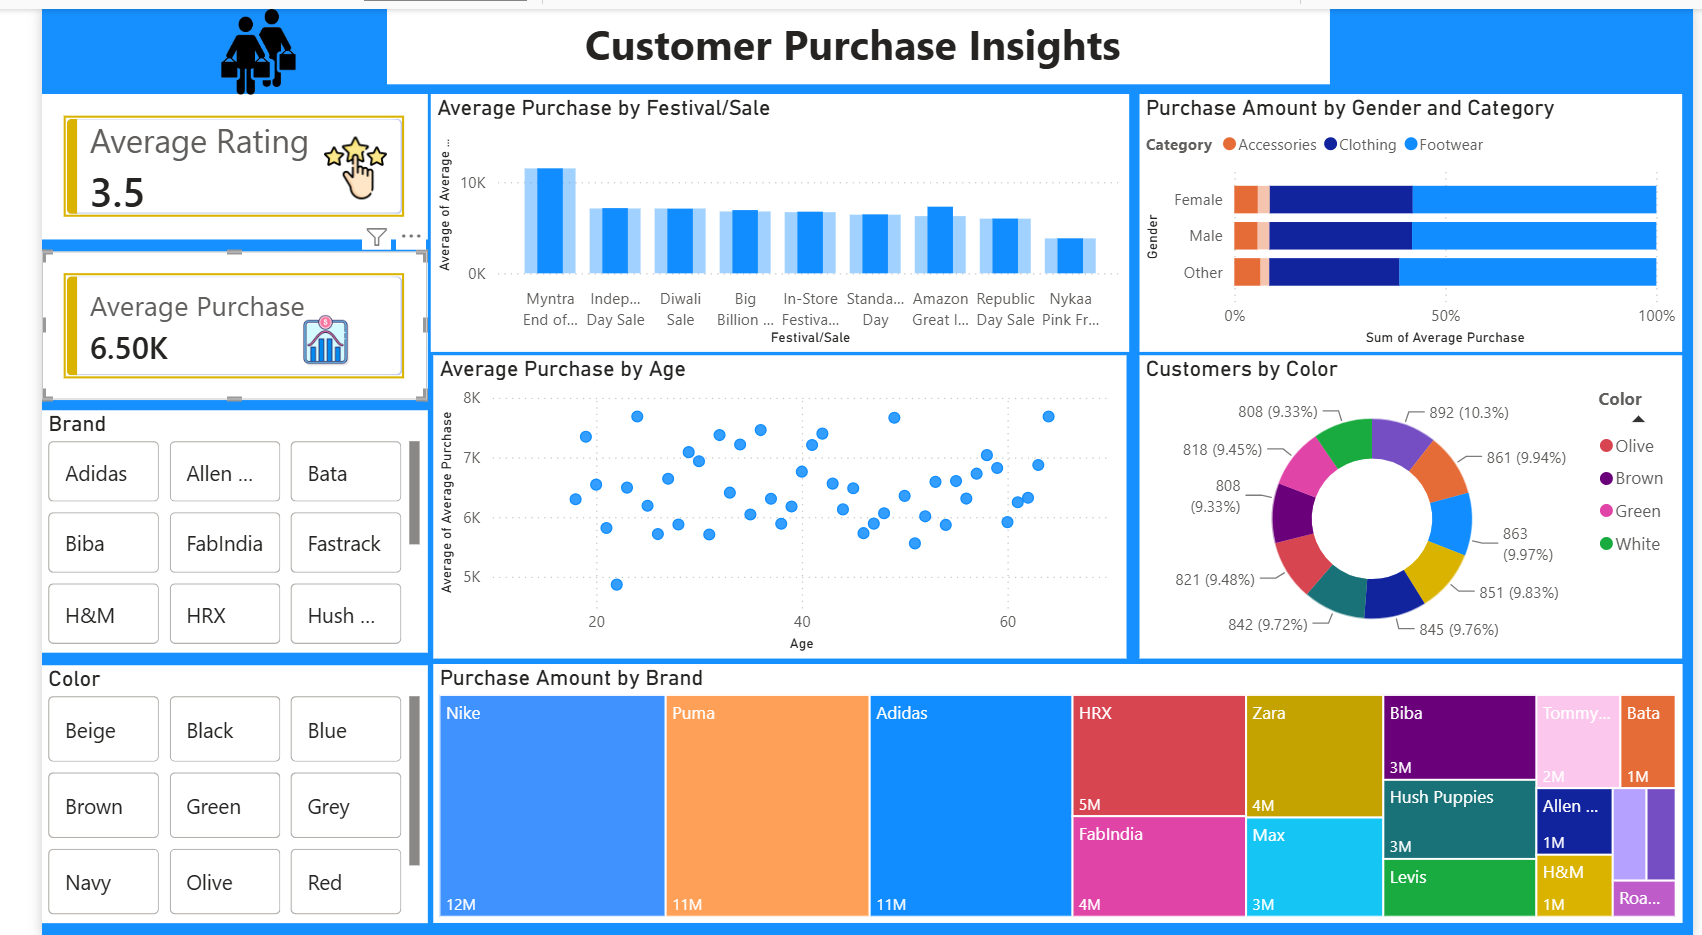

What the dashboard file says about the page in this screenshot:
{"tool":"powerbi","page":{"name":"Page 2","canvas":[1280,720],"ordinal":1},"visuals":[{"type":"textbox","box":[267.4,0,731.4,58.1],"z":0},{"type":"cardVisual","fields":{"Data":["customer_shopping_behavior-clean.Average Rating"]},"box":[0,66.3,298.8,112.8],"z":1000},{"type":"cardVisual","fields":{"Data":["Avg(customer_shopping_behavior-clean.Purchase Amount (₹))"]},"box":[0,188.4,298.8,115.1],"z":2000},{"type":"advancedSlicerVisual","fields":{"Values":["customer_shopping_behavior-clean.Color"]},"box":[0,509.3,298.8,200],"z":3000},{"type":"treemap","title":" Purchase Amount by Brand","fields":{"Group":["customer_shopping_behavior-clean.Brand"],"Values":["Sum(customer_shopping_behavior-clean.Purchase Amount (₹))"]},"box":[303.5,508.1,968.6,201.2],"z":4000},{"type":"hundredPercentStackedBarChart","title":"Purchase Amount  by Gender and Category","fields":{"Category":["customer_shopping_behavior-clean.Gender"],"Series":["customer_shopping_behavior-clean.Category"],"Y":["Sum(customer_shopping_behavior-clean.Purchase Amount (₹))"]},"box":[851.2,66.3,420.9,200],"z":5000},{"type":"scatterChart","title":" Average Purchase   by Age","fields":{"X":["customer_shopping_behavior-clean.Age"],"Y":["Avg(customer_shopping_behavior-clean.Purchase Amount (₹))"]},"box":[303.5,268.6,537.2,234.9],"z":6000},{"type":"donutChart","title":" Customers by Color","fields":{"Category":["customer_shopping_behavior-clean.Color"],"Y":["customer_shopping_behavior-clean.Total Customer"]},"box":[851.2,268.6,420.9,234.9],"z":7000},{"type":"advancedSlicerVisual","fields":{"Values":["customer_shopping_behavior-clean.Brand"]},"box":[0,311.6,298.8,188.4],"z":7001},{"type":"clusteredColumnChart","title":" Average Purchase  by Festival/Sale","fields":{"Category":["customer_shopping_behavior-clean.Festival/Sale"],"Y":["Avg(customer_shopping_behavior-clean.Purchase Amount (₹))"]},"box":[301.2,66.3,541.9,200],"z":7002},{"type":"image","box":[111.6,98.8,262.8,48.8],"z":7003},{"type":"image","box":[124.4,236,193,40.7],"z":7004},{"type":"image","box":[17.7,0,300.3,66.5],"z":7005}]}

Visuals, with their boxes in screenshot pixels (x1, y1, x2, y2), scaled from the page's 1280x720 canvas onto the 1702x935 screenshot:
textbox: 356,0,1328,75
cardVisual - customer_shopping_behavior-clean.Average Rating: 0,86,397,233
cardVisual - Avg(customer_shopping_behavior-clean.Purchase Amount (₹)): 0,245,397,394
advancedSlicerVisual - customer_shopping_behavior-clean.Color: 0,661,397,921
" Purchase Amount by Brand" treemap: 404,660,1691,921
"Purchase Amount  by Gender and Category" hundredPercentStackedBarChart: 1132,86,1691,346
" Average Purchase   by Age" scatterChart: 404,349,1118,654
" Customers by Color" donutChart: 1132,349,1691,654
advancedSlicerVisual - customer_shopping_behavior-clean.Brand: 0,405,397,649
" Average Purchase  by Festival/Sale" clusteredColumnChart: 401,86,1121,346
image: 148,128,498,192
image: 165,306,422,359
image: 24,0,423,86
